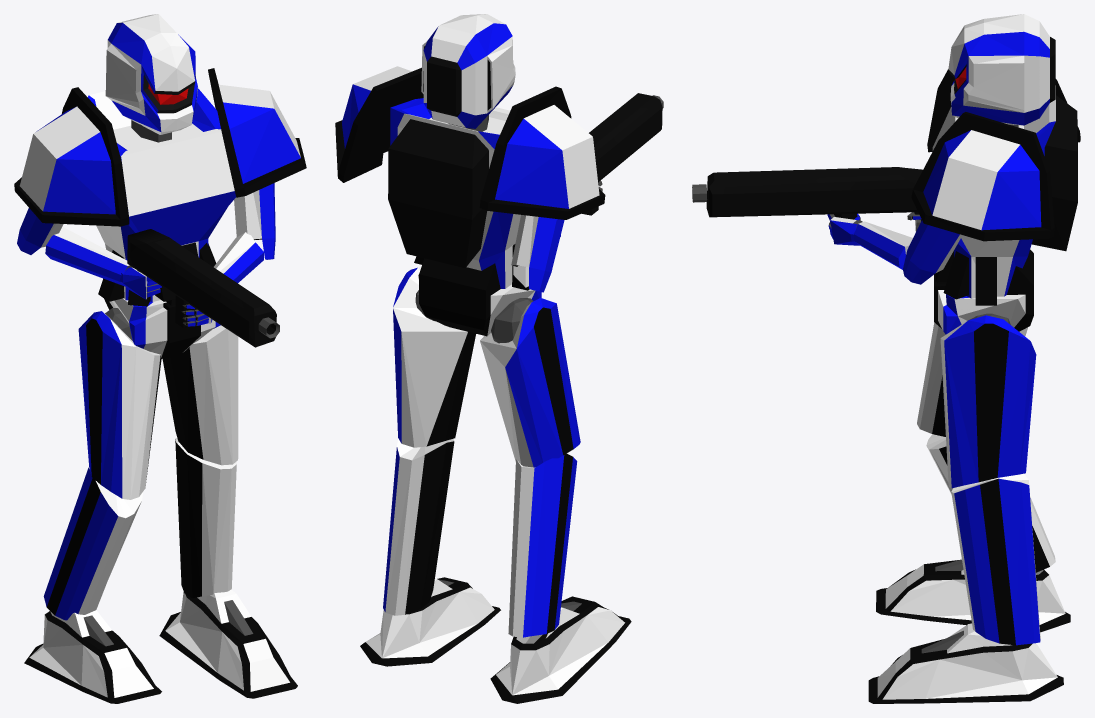
The model's file is robot_animation_000013.obj.
3 renders of one model, left to right at view 1: azimuth 30°, elevation 25°; view 2: azimuth 150°, elevation 25°; view 3: azimuth 270°, elevation 25°, orthographic.
Parts seen in each view (by area): view 1: Chest_plate_Cube.004, R_Thigh_Cube.005, Cube.002_Cube.059, Head_base_Cube.022, R_Foot.002_Cube.035, R_Thigh.002_Cube.027, Cube_Cube.001, R_Shin.002_Cube.029, R_Shin_Cube.007, R_Foot_Cube, Cube_Cube.021, Pelvis_Cube.006 (+5 smaller); view 2: Chest_plate_Cube.004, Cube.002_Cube.059, R_Thigh_Cube.005, R_Shin_Cube.007, R_Thigh.002_Cube.027, R_Shin.002_Cube.029, Head_base_Cube.022, R_Foot_Cube, R_Foot.002_Cube.035, Cube_Cube.021, Pelvis_Cube.006, Cube_Cube.001 (+2 smaller); view 3: Cube_Cube.021, R_Thigh.002_Cube.027, R_Shin.002_Cube.029, R_Foot.002_Cube.035, Head_base_Cube.022, Cube_Cube.001, Chest_plate_Cube.004, R_Foot_Cube, Pelvis_Cube.006, L_Arm_Cube.014, R_Thigh_Cube.005, L_Forearm_Cube.020 (+3 smaller).
Boxes of the visible parts, x1,y1,x2,y2 form: Chest_plate_Cube.004: (87,88,235,306); R_Thigh_Cube.005: (78,311,161,499); Cube.002_Cube.059: (14,87,129,226); Head_base_Cube.022: (105,14,198,134); R_Foot.002_Cube.035: (159,589,297,698); R_Thigh.002_Cube.027: (162,325,238,465); Cube_Cube.001: (127,229,279,347); R_Shin.002_Cube.029: (175,438,236,598); R_Shin_Cube.007: (43,467,142,620); R_Foot_Cube: (24,610,161,703); Cube_Cube.021: (208,68,306,197); Pelvis_Cube.006: (104,298,220,358); Chest_plate_Cube.004: (388,98,529,290); Cube.002_Cube.059: (479,86,605,219); R_Thigh_Cube.005: (480,298,580,467); R_Shin_Cube.007: (508,453,577,637); R_Thigh.002_Cube.027: (393,267,475,447); R_Shin.002_Cube.029: (383,438,454,615); Head_base_Cube.022: (421,14,515,128); R_Foot_Cube: (490,596,631,703); R_Foot.002_Cube.035: (360,577,500,666); Cube_Cube.021: (335,66,423,182); Pelvis_Cube.006: (418,258,541,336); Cube_Cube.001: (581,93,663,215); Cube_Cube.021: (911,112,1054,241); R_Thigh.002_Cube.027: (940,315,1036,488); R_Shin.002_Cube.029: (951,473,1040,645); R_Foot.002_Cube.035: (868,623,1063,703); Head_base_Cube.022: (948,14,1055,125); Cube_Cube.001: (692,167,922,221); Chest_plate_Cube.004: (932,85,1077,305); R_Foot_Cube: (876,559,1070,632); Pelvis_Cube.006: (934,249,1033,334); L_Arm_Cube.014: (903,220,962,284); R_Thigh_Cube.005: (917,322,1027,436); L_Forearm_Cube.020: (853,221,912,269).
Size of the model in its own units: 1.32 by 3.06 by 1.68.
